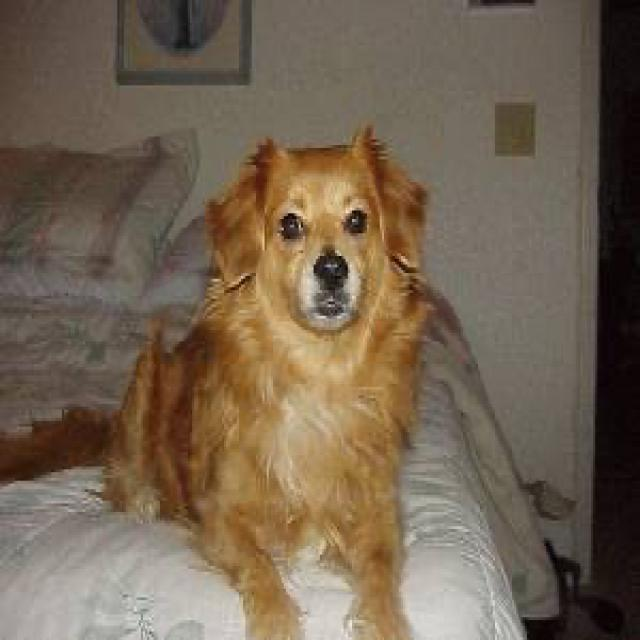dog: (205, 128, 416, 336)
